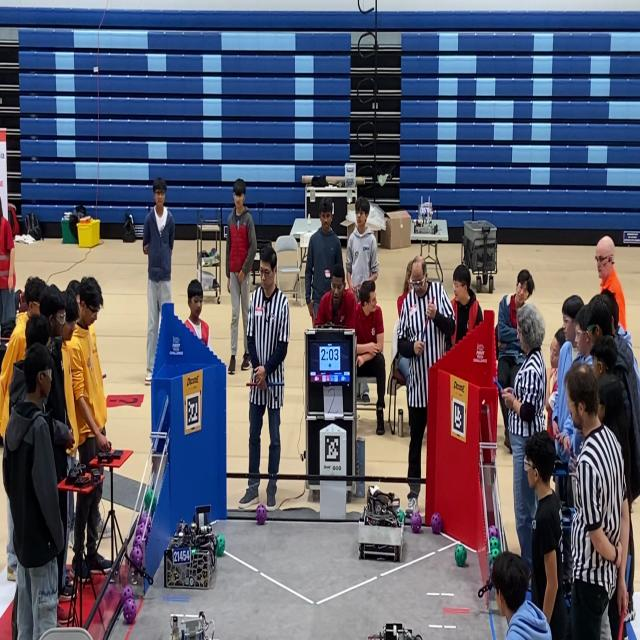artifact_green: (144, 488, 156, 513), (455, 544, 466, 567), (216, 533, 226, 558), (489, 549, 500, 564), (488, 525, 500, 538), (490, 537, 501, 551), (397, 509, 404, 522)
artifact_purple: (123, 599, 136, 624), (130, 546, 143, 568), (256, 504, 267, 525), (411, 512, 422, 533), (431, 513, 442, 534), (121, 587, 133, 604), (134, 535, 145, 547), (489, 526, 499, 539), (138, 514, 148, 526), (136, 524, 146, 536), (146, 518, 152, 533), (489, 563, 492, 582)
